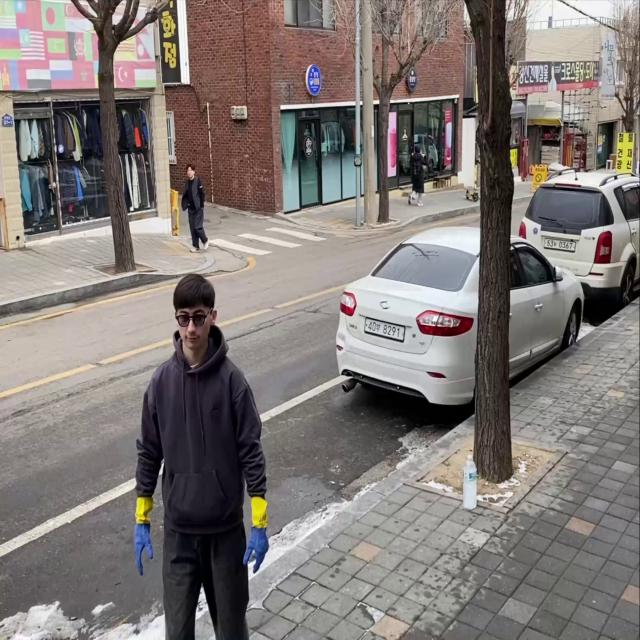gloved_hand: (240, 523, 272, 576), (131, 522, 156, 576)
